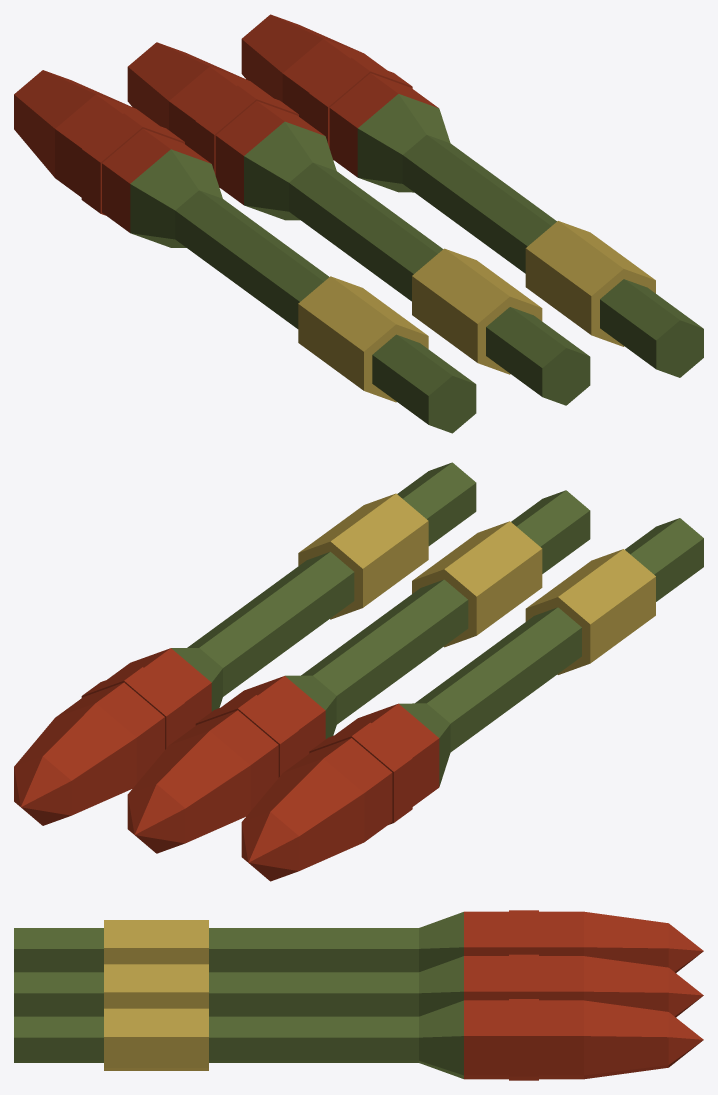
Rendered from ce_ammo2_spg9_thermo_b.obj.
3 renders of one model, top to bottom at view 1: azimuth 30°, elevation 25°; view 2: azimuth 150°, elevation 25°; view 3: azimuth 270°, elevation 25°, orthographic. The views are drawn at different scales.
Parts seen in each view (by area): view 1: ce_ammo2_spg9_thermo_b_20, ce_ammo2_spg9_thermo_b_2, ce_ammo2_spg9_thermo_b_11, ce_ammo2_spg9_thermo_b_1, ce_ammo2_spg9_thermo_b_19, ce_ammo2_spg9_thermo_b_10, ce_ammo2_spg9_thermo_b_0, ce_ammo2_spg9_thermo_b_9, ce_ammo2_spg9_thermo_b_18, ce_ammo2_spg9_thermo_b_21, ce_ammo2_spg9_thermo_b_3, ce_ammo2_spg9_thermo_b_12 (+12 smaller); view 2: ce_ammo2_spg9_thermo_b_11, ce_ammo2_spg9_thermo_b_2, ce_ammo2_spg9_thermo_b_20, ce_ammo2_spg9_thermo_b_19, ce_ammo2_spg9_thermo_b_10, ce_ammo2_spg9_thermo_b_1, ce_ammo2_spg9_thermo_b_7, ce_ammo2_spg9_thermo_b_16, ce_ammo2_spg9_thermo_b_25, ce_ammo2_spg9_thermo_b_6, ce_ammo2_spg9_thermo_b_18, ce_ammo2_spg9_thermo_b_9 (+15 smaller); view 3: ce_ammo2_spg9_thermo_b_20, ce_ammo2_spg9_thermo_b_2, ce_ammo2_spg9_thermo_b_11, ce_ammo2_spg9_thermo_b_19, ce_ammo2_spg9_thermo_b_25, ce_ammo2_spg9_thermo_b_1, ce_ammo2_spg9_thermo_b_10, ce_ammo2_spg9_thermo_b_18, ce_ammo2_spg9_thermo_b_0, ce_ammo2_spg9_thermo_b_9, ce_ammo2_spg9_thermo_b_7, ce_ammo2_spg9_thermo_b_16 (+15 smaller).
Boxes of the visible parts, left/top/right/bottom form: ce_ammo2_spg9_thermo_b_20: left=402, top=135, right=556, bottom=273; ce_ammo2_spg9_thermo_b_2: left=175, top=190, right=328, bottom=328; ce_ammo2_spg9_thermo_b_11: left=289, top=162, right=442, bottom=301; ce_ammo2_spg9_thermo_b_1: left=298, top=276, right=428, bottom=402; ce_ammo2_spg9_thermo_b_19: left=525, top=221, right=655, bottom=346; ce_ammo2_spg9_thermo_b_10: left=412, top=248, right=542, bottom=374; ce_ammo2_spg9_thermo_b_0: left=372, top=334, right=476, bottom=433; ce_ammo2_spg9_thermo_b_9: left=486, top=307, right=590, bottom=405; ce_ammo2_spg9_thermo_b_18: left=600, top=279, right=703, bottom=377; ce_ammo2_spg9_thermo_b_21: left=357, top=94, right=450, bottom=192; ce_ammo2_spg9_thermo_b_3: left=130, top=149, right=222, bottom=247; ce_ammo2_spg9_thermo_b_12: left=244, top=121, right=336, bottom=220; ce_ammo2_spg9_thermo_b_11: left=301, top=579, right=468, bottom=724; ce_ammo2_spg9_thermo_b_2: left=415, top=607, right=581, bottom=751; ce_ammo2_spg9_thermo_b_20: left=187, top=552, right=354, bottom=696; ce_ammo2_spg9_thermo_b_19: left=298, top=493, right=428, bottom=619; ce_ammo2_spg9_thermo_b_10: left=412, top=521, right=542, bottom=647; ce_ammo2_spg9_thermo_b_1: left=525, top=549, right=655, bottom=674; ce_ammo2_spg9_thermo_b_7: left=242, top=758, right=364, bottom=870; ce_ammo2_spg9_thermo_b_16: left=128, top=731, right=250, bottom=843; ce_ammo2_spg9_thermo_b_25: left=14, top=703, right=136, bottom=815; ce_ammo2_spg9_thermo_b_6: left=283, top=738, right=392, bottom=841; ce_ammo2_spg9_thermo_b_18: left=397, top=462, right=476, bottom=545; ce_ammo2_spg9_thermo_b_9: left=511, top=490, right=590, bottom=573; ce_ammo2_spg9_thermo_b_20: left=209, top=1016, right=418, bottom=1062; ce_ammo2_spg9_thermo_b_2: left=209, top=928, right=418, bottom=972; ce_ammo2_spg9_thermo_b_11: left=209, top=972, right=418, bottom=1016; ce_ammo2_spg9_thermo_b_19: left=104, top=1008, right=208, bottom=1070; ce_ammo2_spg9_thermo_b_25: left=584, top=1000, right=668, bottom=1079; ce_ammo2_spg9_thermo_b_1: left=104, top=920, right=208, bottom=964; ce_ammo2_spg9_thermo_b_10: left=104, top=964, right=208, bottom=1008; ce_ammo2_spg9_thermo_b_18: left=14, top=1016, right=103, bottom=1062; ce_ammo2_spg9_thermo_b_0: left=14, top=928, right=103, bottom=972; ce_ammo2_spg9_thermo_b_9: left=14, top=972, right=103, bottom=1016; ce_ammo2_spg9_thermo_b_7: left=584, top=911, right=668, bottom=967; ce_ammo2_spg9_thermo_b_16: left=584, top=956, right=668, bottom=1011.
Size of the model in its own units: 0.384 by 0.12 by 0.92.
